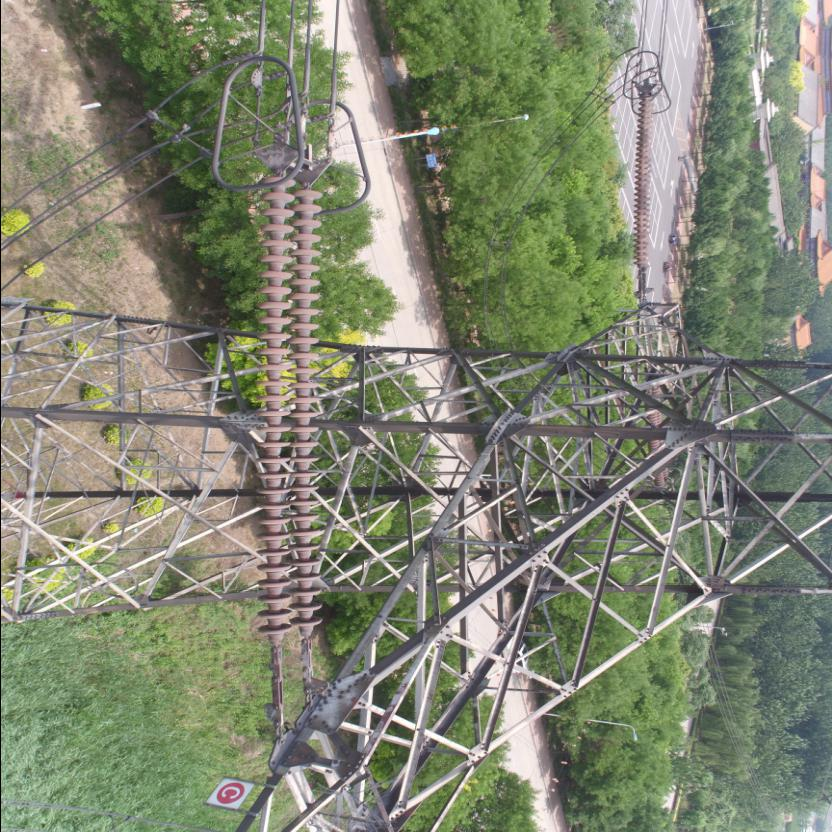insulator: (256, 166, 326, 663), (633, 90, 654, 274)
